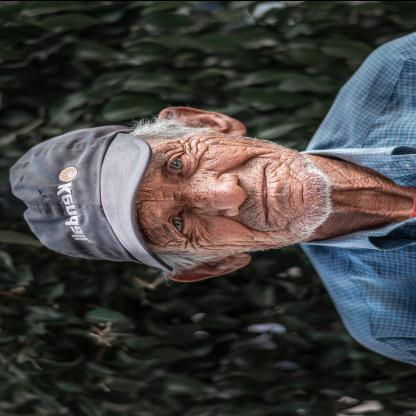Eye: (165, 210, 197, 240), (160, 151, 194, 179)
Mouth: (253, 165, 281, 227)
Nose: (190, 171, 252, 219)
